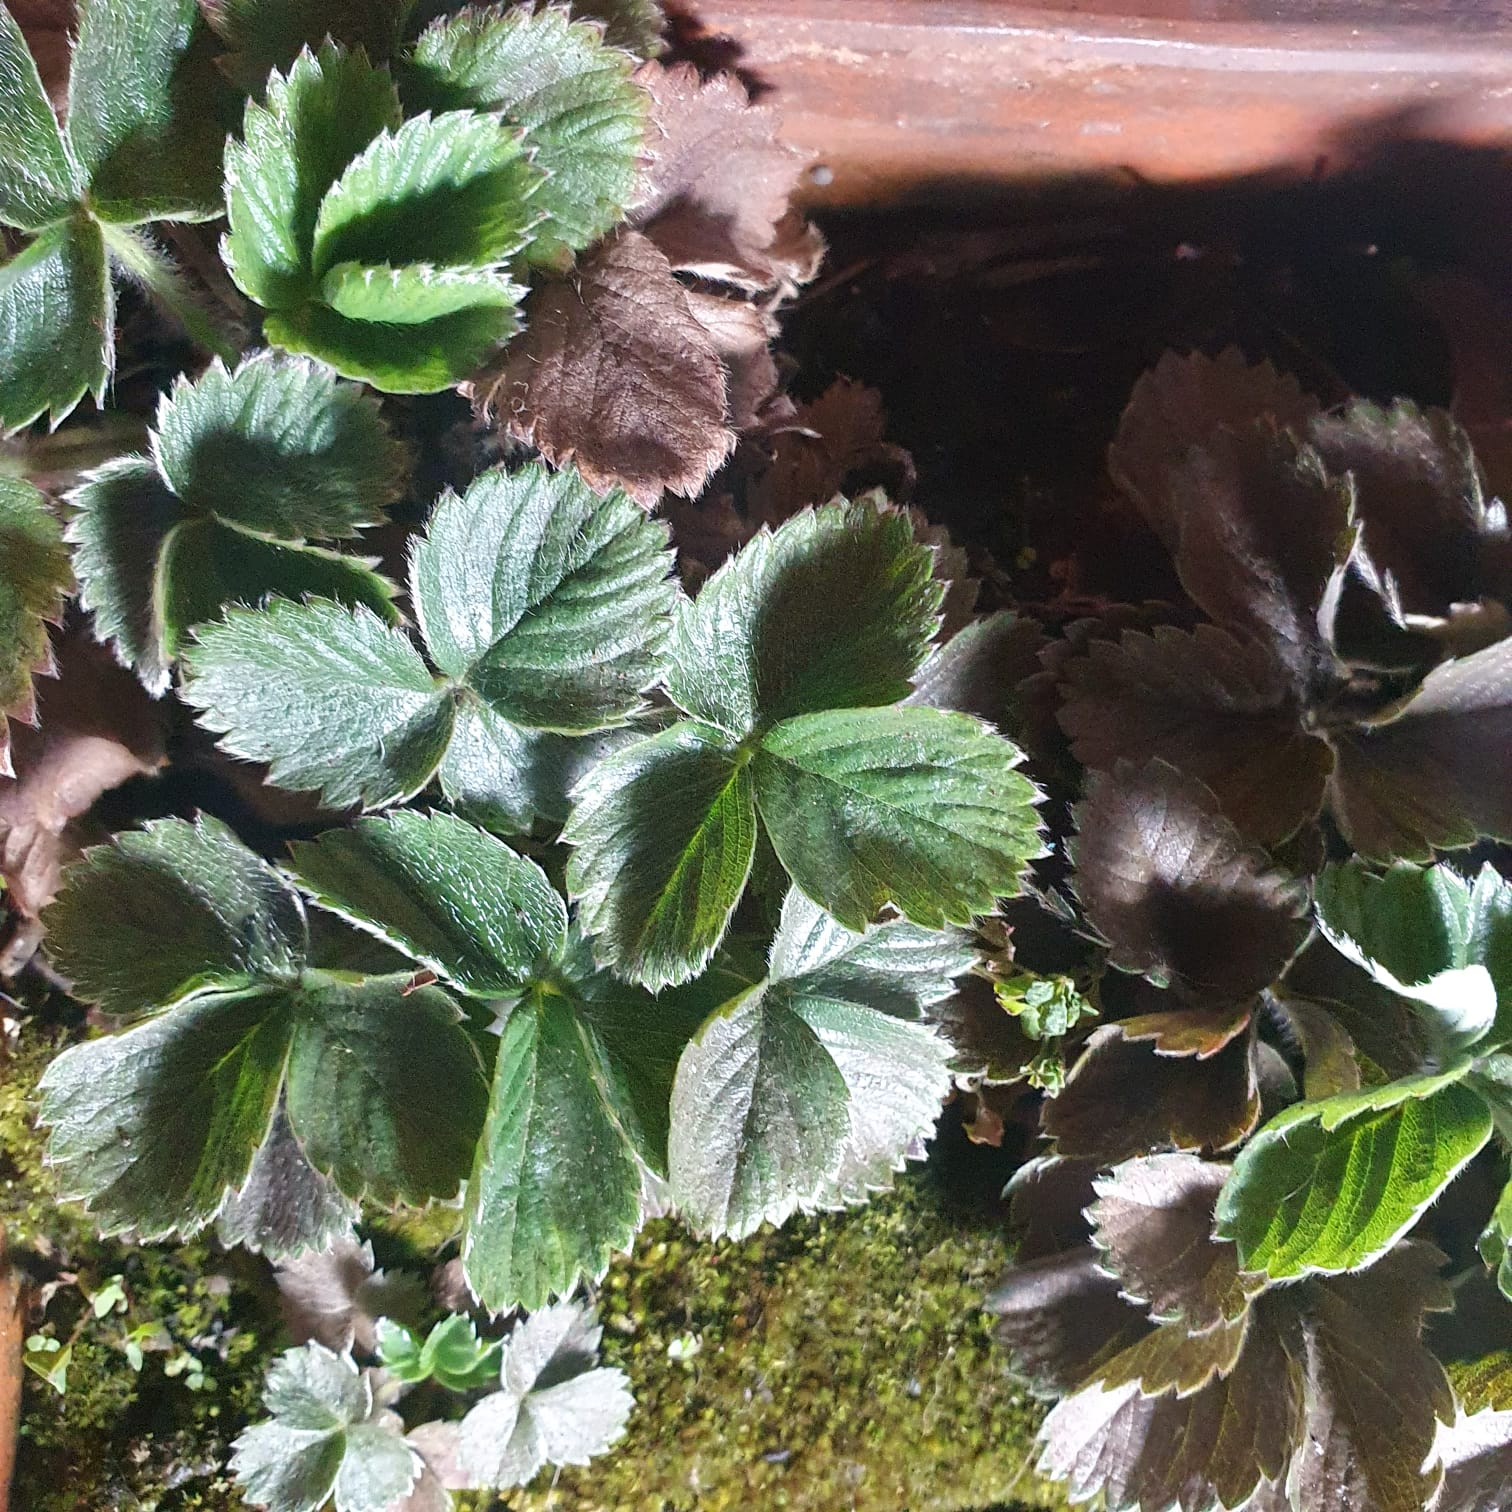sano: (154, 461, 1045, 961)
